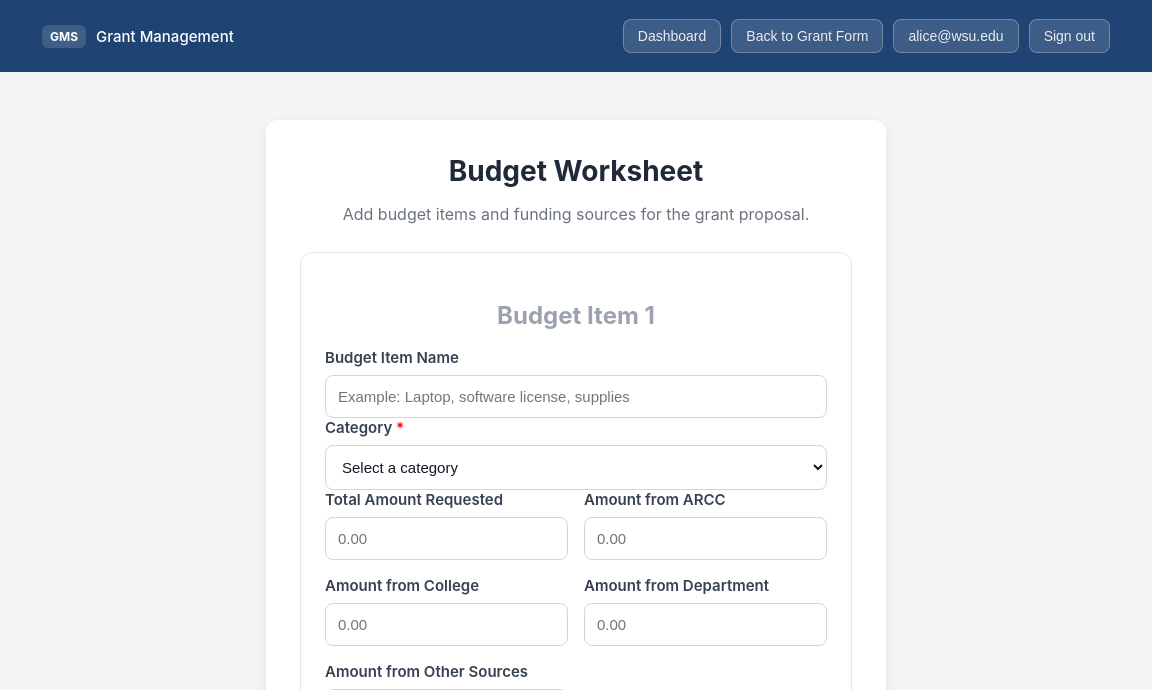
Test: BudgetWorksheet › recomputes the per-item total from the funding source fields
Type "100" into the number field labelled "Amount from ARCC". click: (706, 538)
box: [584,517,827,560]
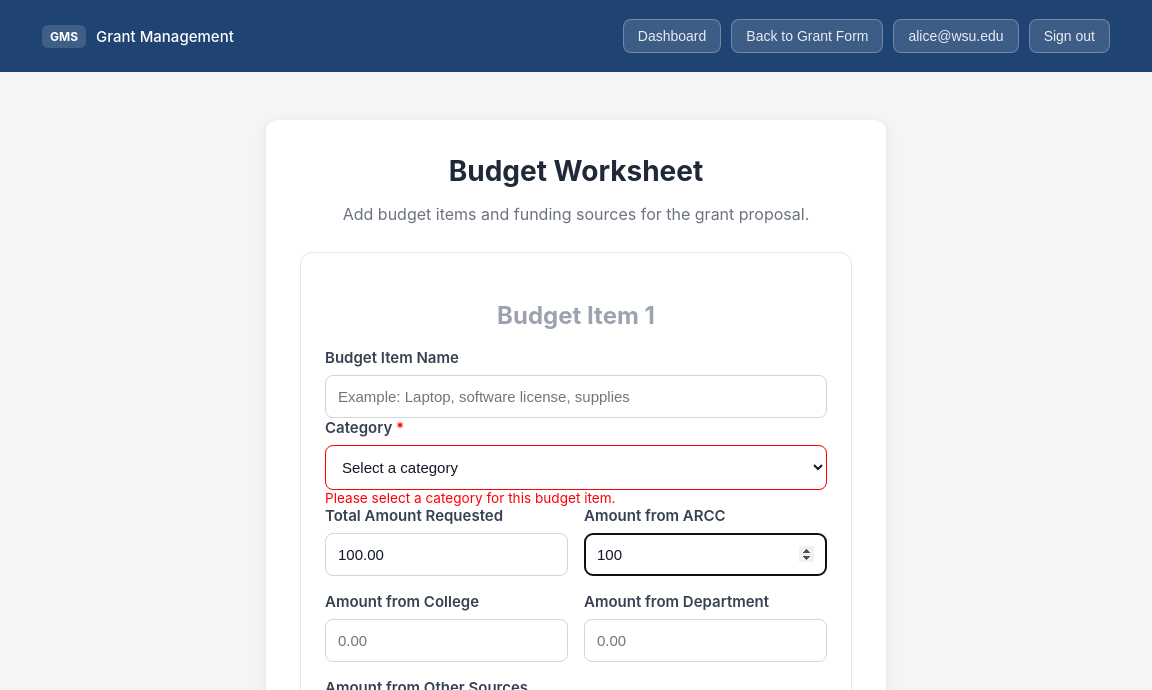
Type "50.5" into the number field labelled "Amount from College". click: (446, 640)
box: [325,619,568,662]
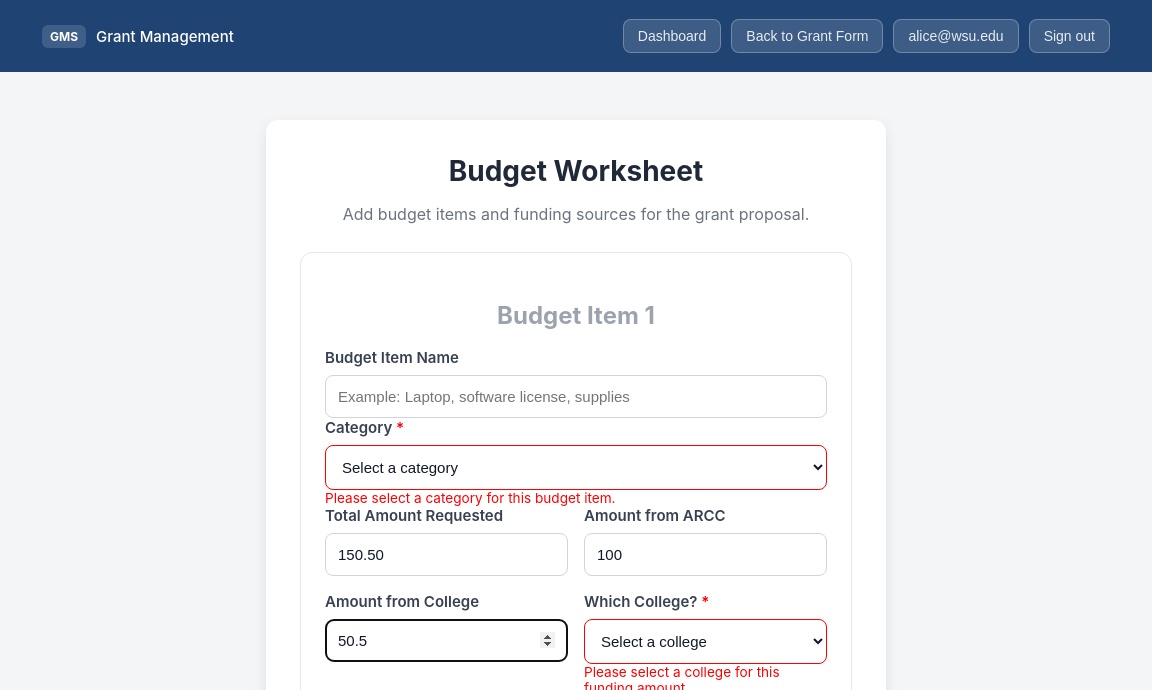
Check: the number field labelled "Total Amount Requested" holds "150.50", box [325,533,568,576]
